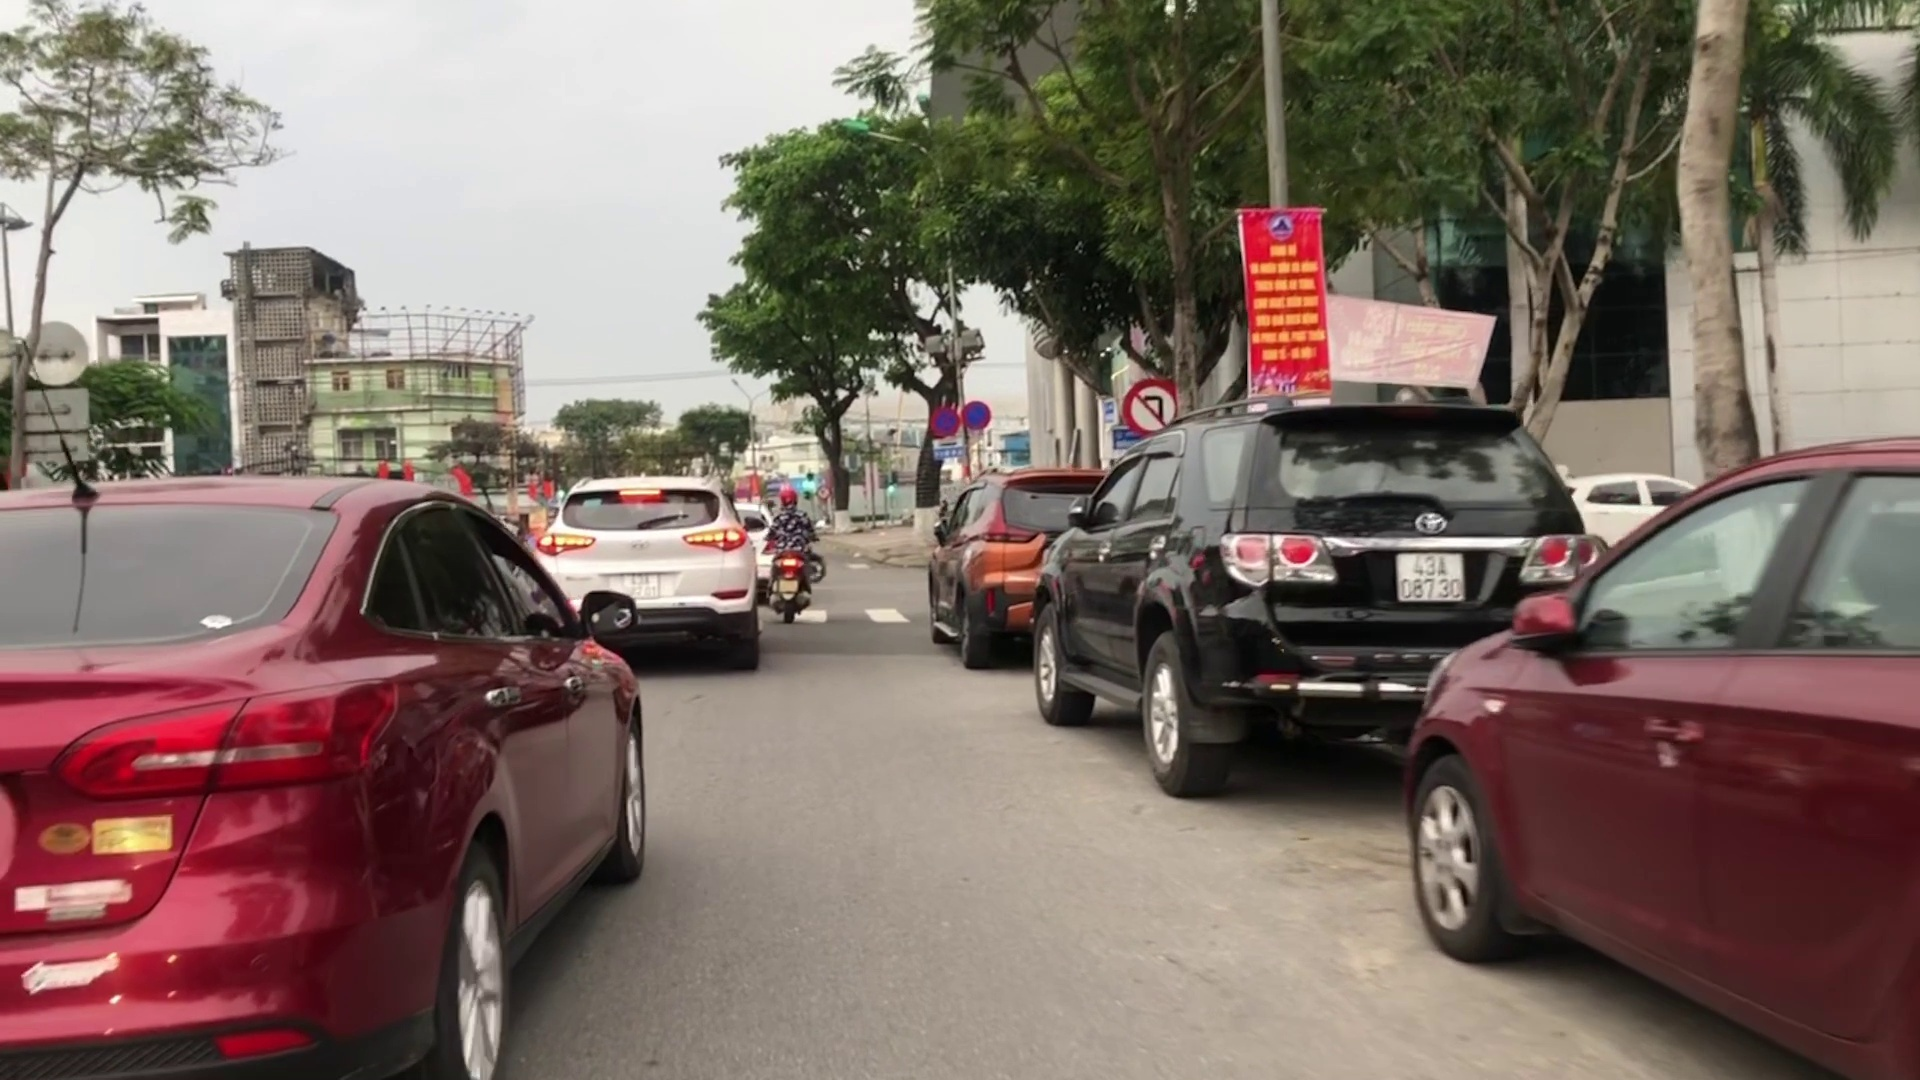Bien khac: (1113, 376, 1182, 427), (930, 407, 957, 439)
Cam do xe: (960, 401, 988, 429)
